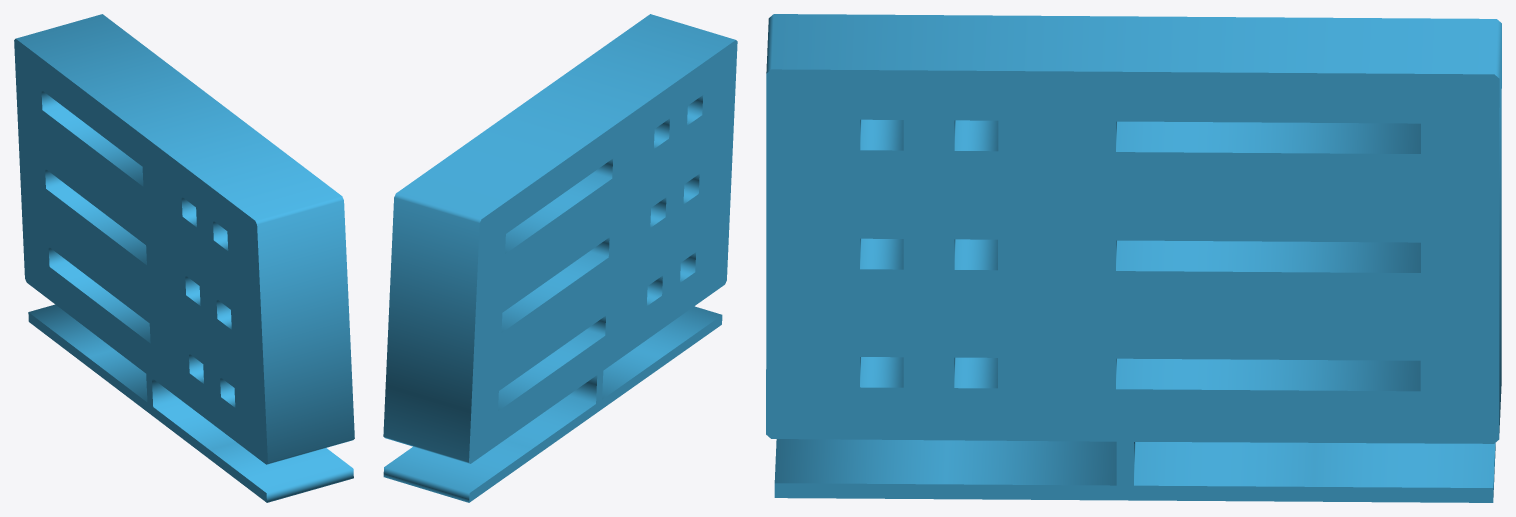
The model's file is server2.glb.
3 views of the same model, side by side, from view 1: azimuth 30°, elevation 25°; view 2: azimuth 150°, elevation 25°; view 3: azimuth 270°, elevation 25° (orthographic). The views are drawn at different scales.
Visible parts, largest first — view 1: path984; view 2: path984; view 3: path984.
Boxes of the visible parts, box(x1,y1,x2,y2) form: path984: box(14, 14, 354, 502); path984: box(383, 14, 737, 502); path984: box(766, 14, 1501, 502).
Size of the model in its own units: 0.7577 by 1.99 by 3.11.
